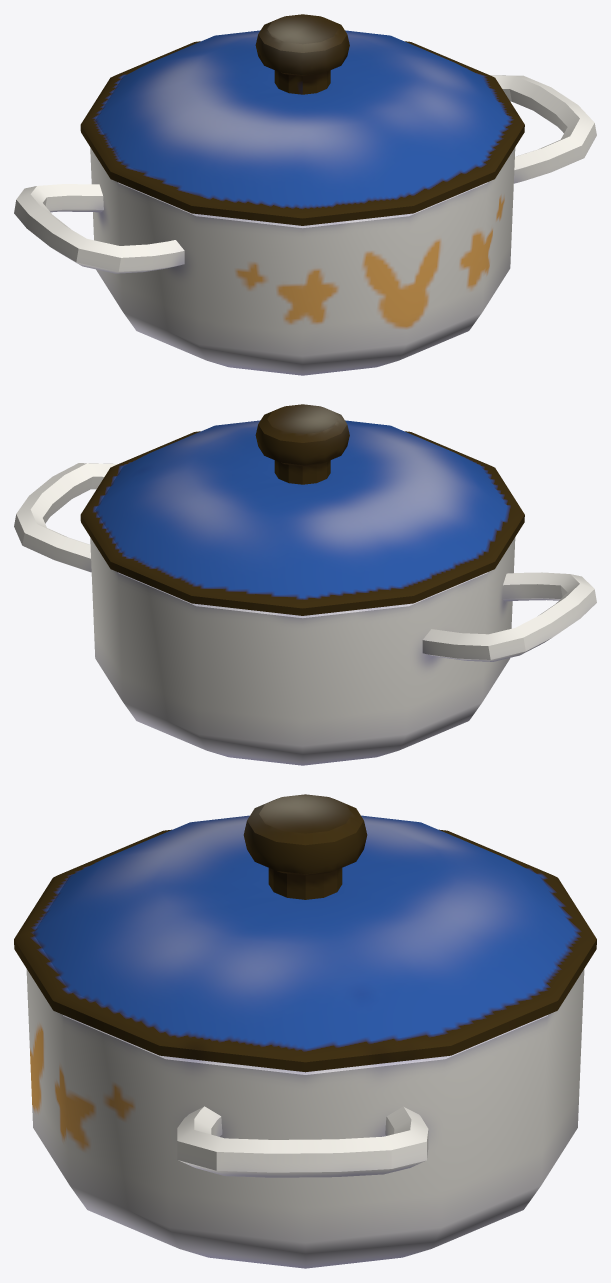
Rendered from Pot.fbx.
The picture shows the model from 3 angles, top to bottom: view 1: azimuth 30°, elevation 25°; view 2: azimuth 150°, elevation 25°; view 3: azimuth 270°, elevation 25°; orthographic projection. The views are drawn at different scales.
Parts seen in each view (by area): view 1: pot; view 2: pot; view 3: pot.
Boxes of the visible parts, x1,y1,x2,y2 form: pot: [14, 14, 596, 375]; pot: [14, 404, 596, 765]; pot: [14, 794, 596, 1268].
Bounding box in the file's own units: 1.13 × 0.5759 × 0.8169.
1 material, 1 textured.
